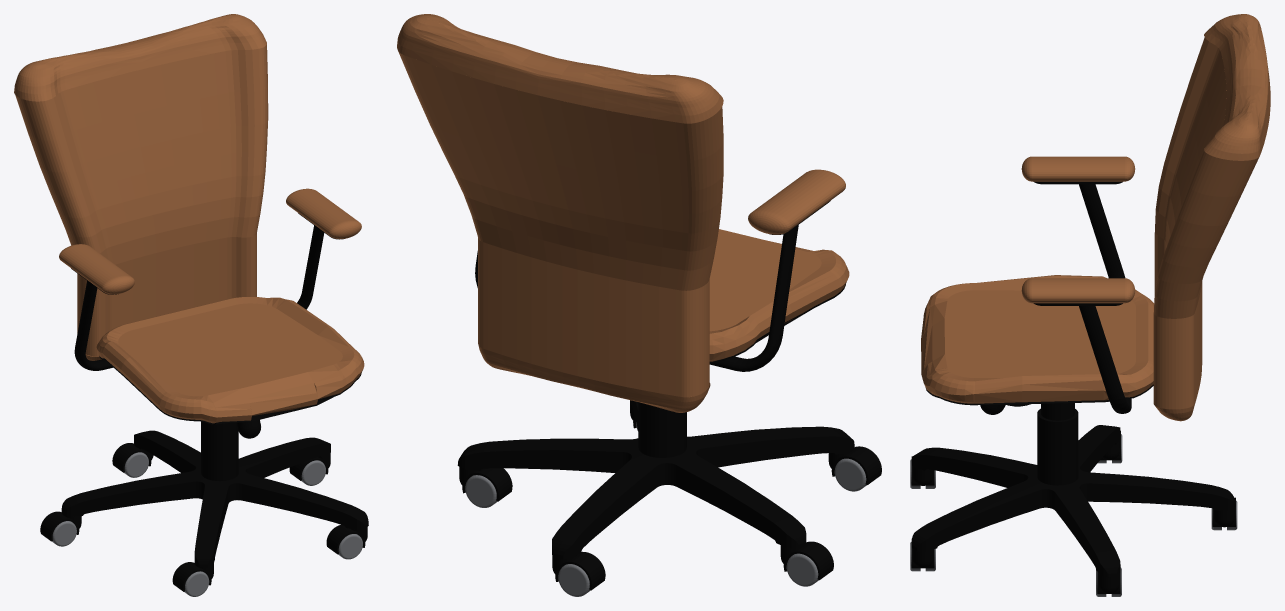
The model's file is chair.fbx.
3 views of the same model, side by side, from view 1: azimuth 30°, elevation 25°; view 2: azimuth 150°, elevation 25°; view 3: azimuth 270°, elevation 25° (orthographic). The views are drawn at different scales.
Visible parts, largest first — view 1: 25:1, 27:1, 1:1, 26:1, 2:1, 23:1, 18:1, 21:1, 10:1, 12:1, 6:1, 8:1 (+5 smaller); view 2: 25:1, 1:1, 26:1, 27:1, 23:1, 2:1, 18:1, 10:1, 8:1, 6:1, 7:1, 4:1 (+4 smaller); view 3: 27:1, 25:1, 1:1, 26:1, 23:1, 2:1, 18:1, 21:1, 3:1, 6:1, 12:1.
Part boxes in pixels (left/top/right/bottom): 25:1: left=15, top=44, right=361, bottom=356; 27:1: left=85, top=296, right=364, bottom=424; 1:1: left=61, top=430, right=368, bottom=567; 26:1: left=14, top=14, right=266, bottom=101; 2:1: left=201, top=421, right=238, bottom=481; 23:1: left=59, top=244, right=134, bottom=294; 18:1: left=75, top=280, right=97, bottom=352; 21:1: left=302, top=225, right=324, bottom=297; 10:1: left=65, top=516, right=209, bottom=596; 12:1: left=197, top=534, right=362, bottom=579; 6:1: left=124, top=452, right=330, bottom=477; 8:1: left=52, top=445, right=153, bottom=546; 25:1: left=398, top=51, right=723, bottom=397; 1:1: left=457, top=400, right=854, bottom=559; 26:1: left=397, top=14, right=723, bottom=387; 27:1: left=578, top=229, right=849, bottom=412; 23:1: left=748, top=169, right=845, bottom=234; 2:1: left=638, top=402, right=686, bottom=457; 18:1: left=768, top=225, right=798, bottom=339; 10:1: left=780, top=458, right=866, bottom=563; 8:1: left=552, top=553, right=818, bottom=586; 6:1: left=459, top=467, right=590, bottom=596; 7:1: left=555, top=551, right=605, bottom=590; 4:1: left=465, top=475, right=497, bottom=507; 27:1: left=921, top=275, right=1154, bottom=405; 25:1: left=1021, top=37, right=1259, bottom=409; 1:1: left=911, top=425, right=1235, bottom=577; 26:1: left=1155, top=14, right=1270, bottom=421; 23:1: left=1021, top=156, right=1135, bottom=181; 2:1: left=1037, top=408, right=1078, bottom=485; 18:1: left=1079, top=184, right=1122, bottom=272; 21:1: left=1079, top=306, right=1122, bottom=394; 3:1: left=1041, top=403, right=1074, bottom=420; 6:1: left=1098, top=500, right=1237, bottom=593; 12:1: left=910, top=466, right=935, bottom=571.
Size of the model in its own units: 3.5 by 5 by 3.5.
